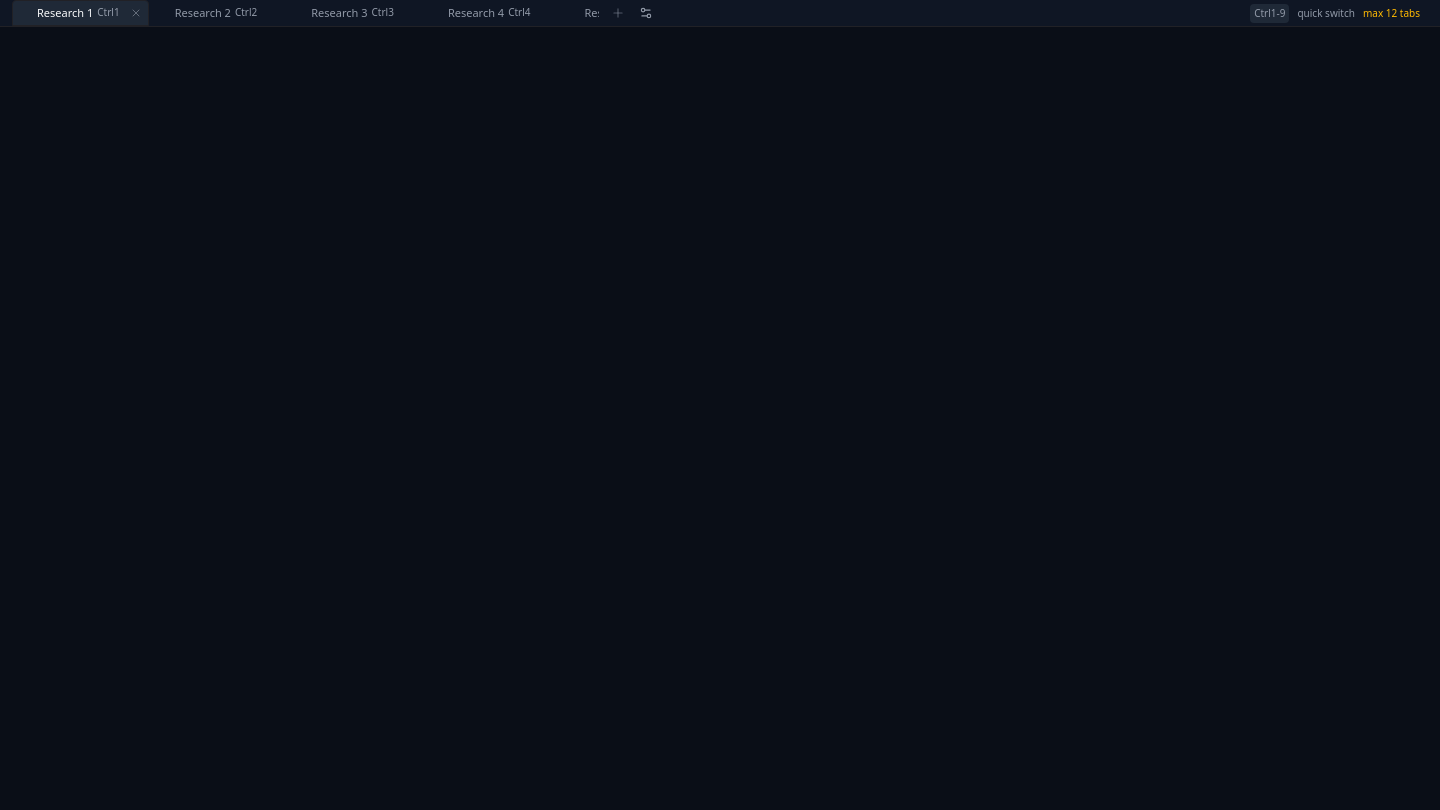
Test: TabBar › uses the same twelve-tab ceiling in the bar and Manage Tabs
This screenshot has width=1440, height=810.
Expected: the button titled "Maximum 12 tabs" is disabled, [605, 0, 631, 26]
Click the button titled "Manage tabs".
click(646, 13)  # box [633, 0, 659, 26]
(page scrolled)
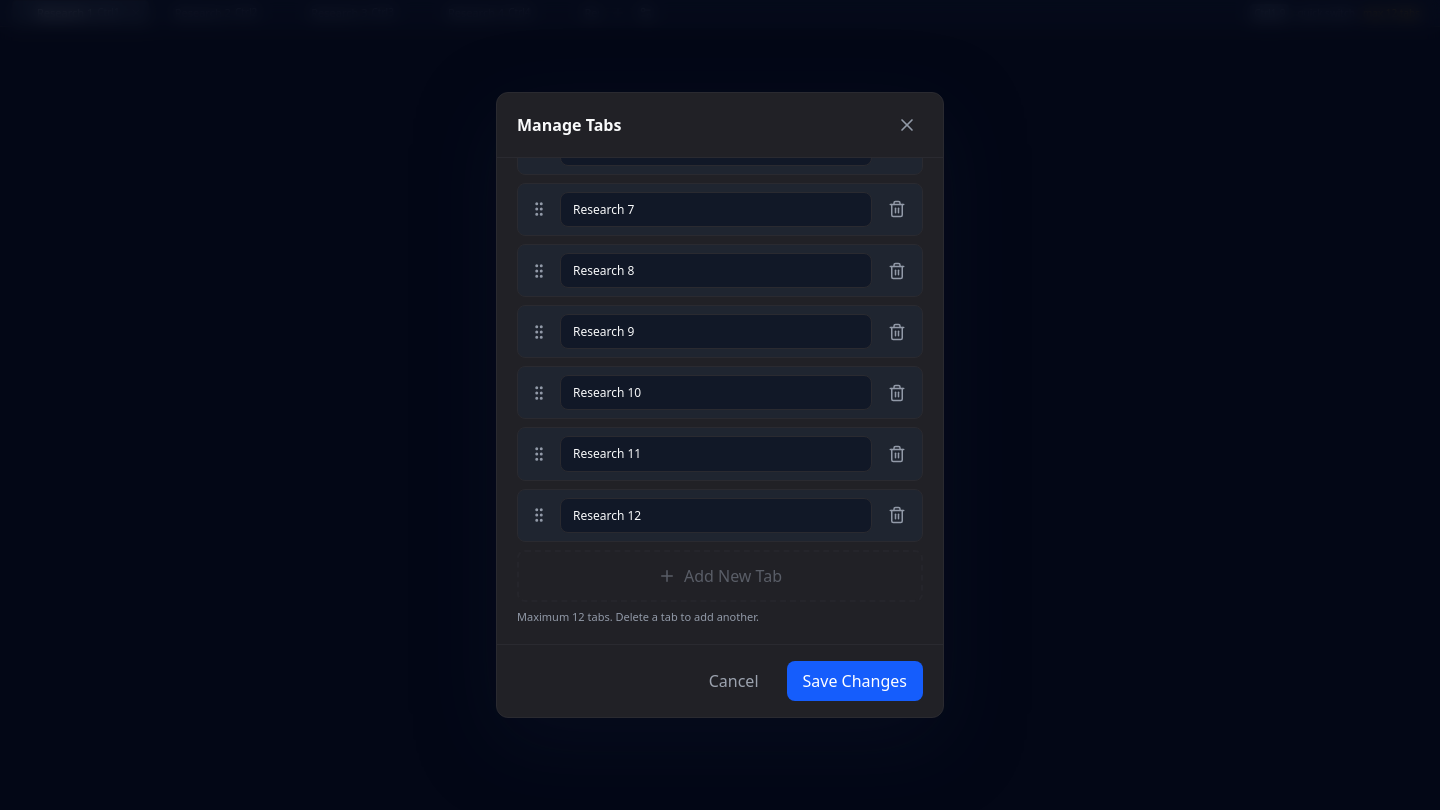
Expected: the button "Add New Tab" is disabled, [517, 550, 923, 602]
Click the button named "Delete Research 12".
click(897, 515)  # box [880, 498, 914, 532]
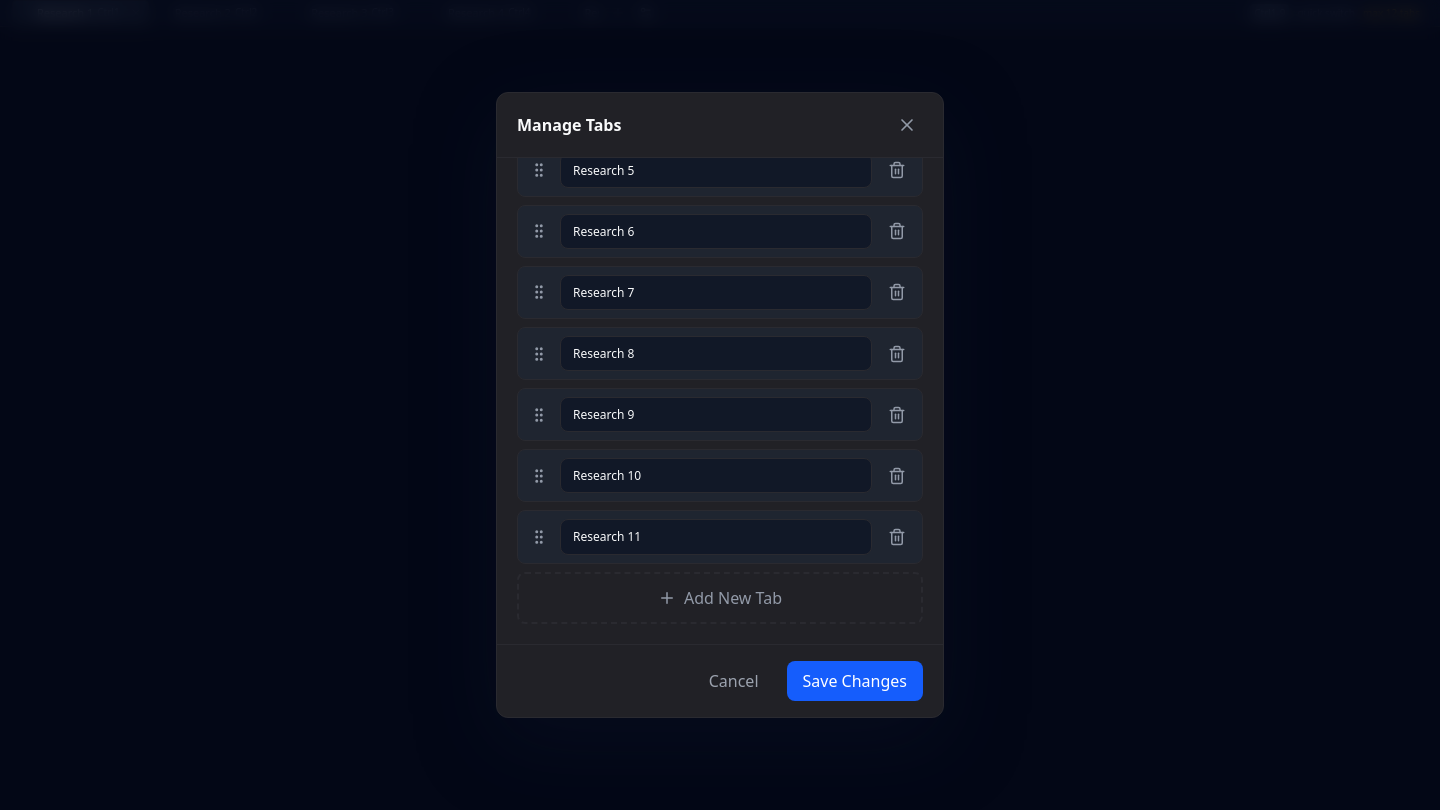
Expected: the button "Add New Tab" is enabled, [517, 572, 923, 624]
Click the button "Save Changes".
click(855, 681)  # box [786, 661, 923, 701]
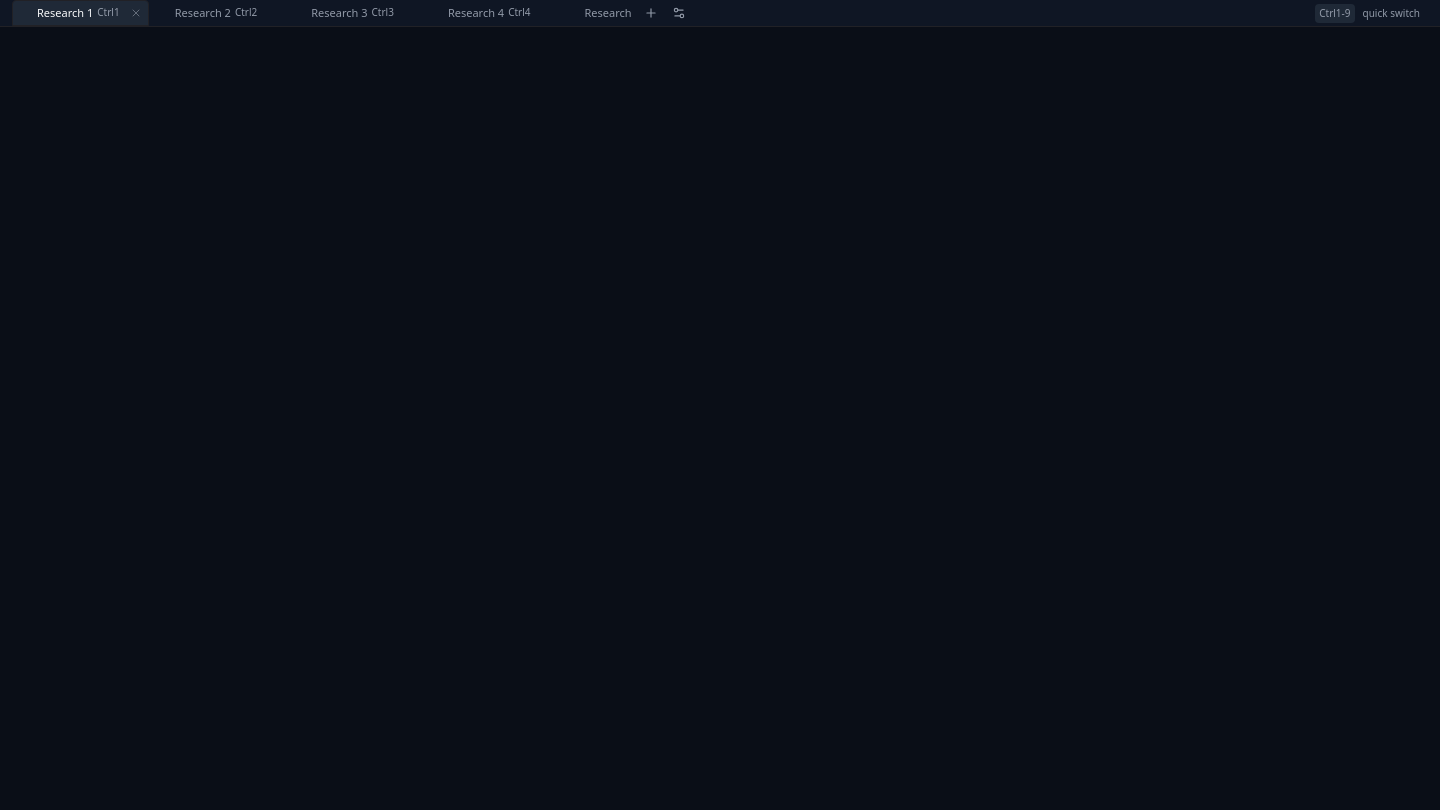
Expected: the button titled "Add new tab" is enabled, [638, 0, 664, 26]
